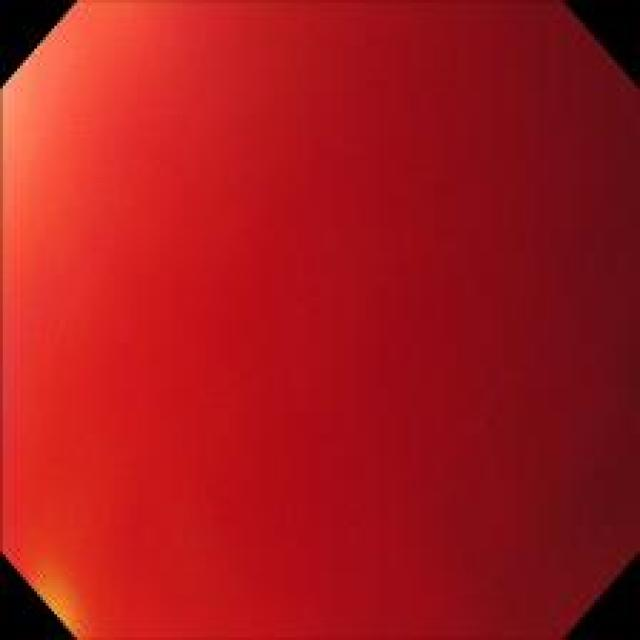color misalignment: (4, 4, 635, 636)
